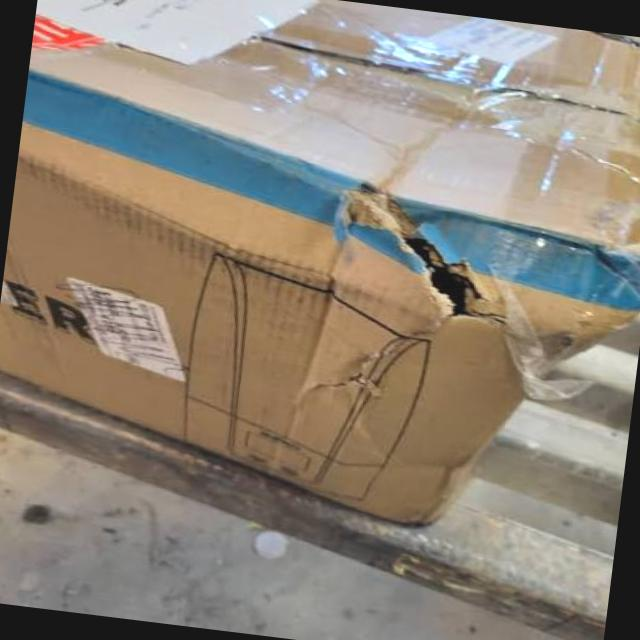carton_box: (0, 0, 640, 575)
package_damage: (291, 141, 640, 446), (247, 26, 640, 146)
